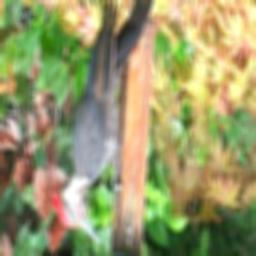Woodpecker: (50, 0, 158, 246)
